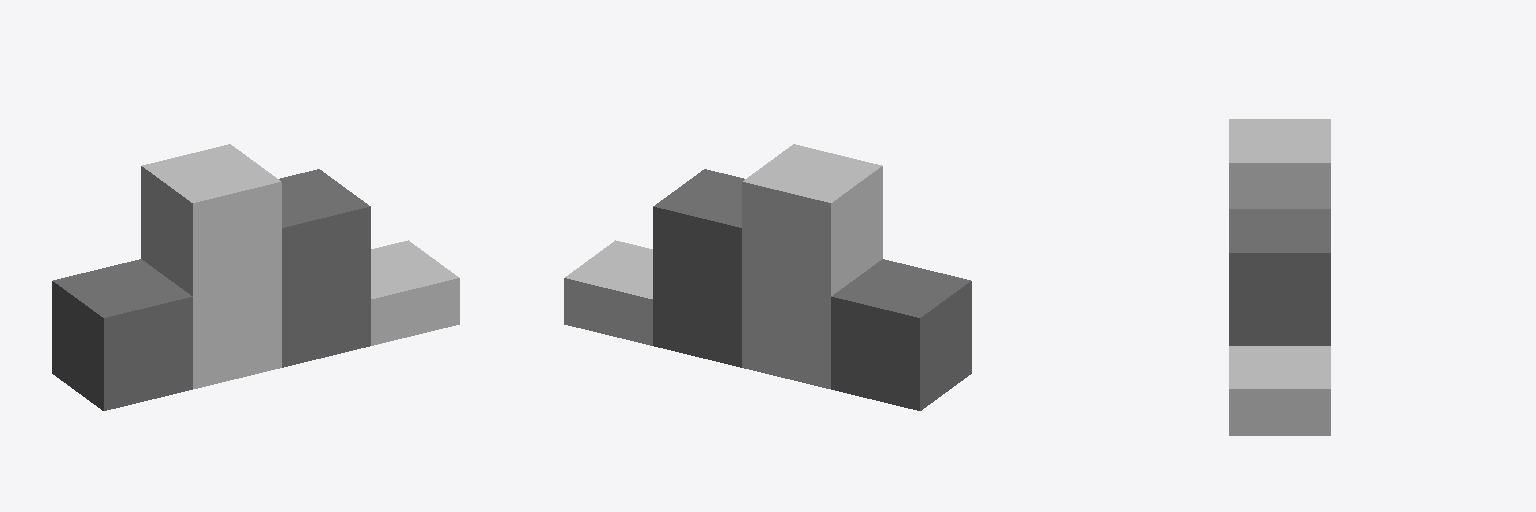
The model's file is podium.obj.
3 views of the same model, side by side, from view 1: azimuth 30°, elevation 25°; view 2: azimuth 150°, elevation 25°; view 3: azimuth 270°, elevation 25° (orthographic).
Visible parts, largest first — view 1: pCube1, pCube3, pCube2, pCube4; view 2: pCube1, pCube3, pCube2, pCube4; view 3: pCube2, pCube1, pCube4.
Boxes of the visible parts, box(x1,y1,x2,y2) form: pCube1: box(141, 144, 281, 388); pCube3: box(52, 259, 192, 410); pCube2: box(279, 169, 370, 367); pCube4: box(371, 240, 459, 345); pCube1: box(742, 144, 882, 388); pCube3: box(831, 259, 971, 410); pCube2: box(653, 169, 744, 367); pCube4: box(564, 240, 652, 345); pCube2: box(1229, 209, 1330, 345); pCube1: box(1229, 119, 1330, 208); pCube4: box(1229, 346, 1330, 435).
Size of the model in its own units: 4 by 2 by 1.